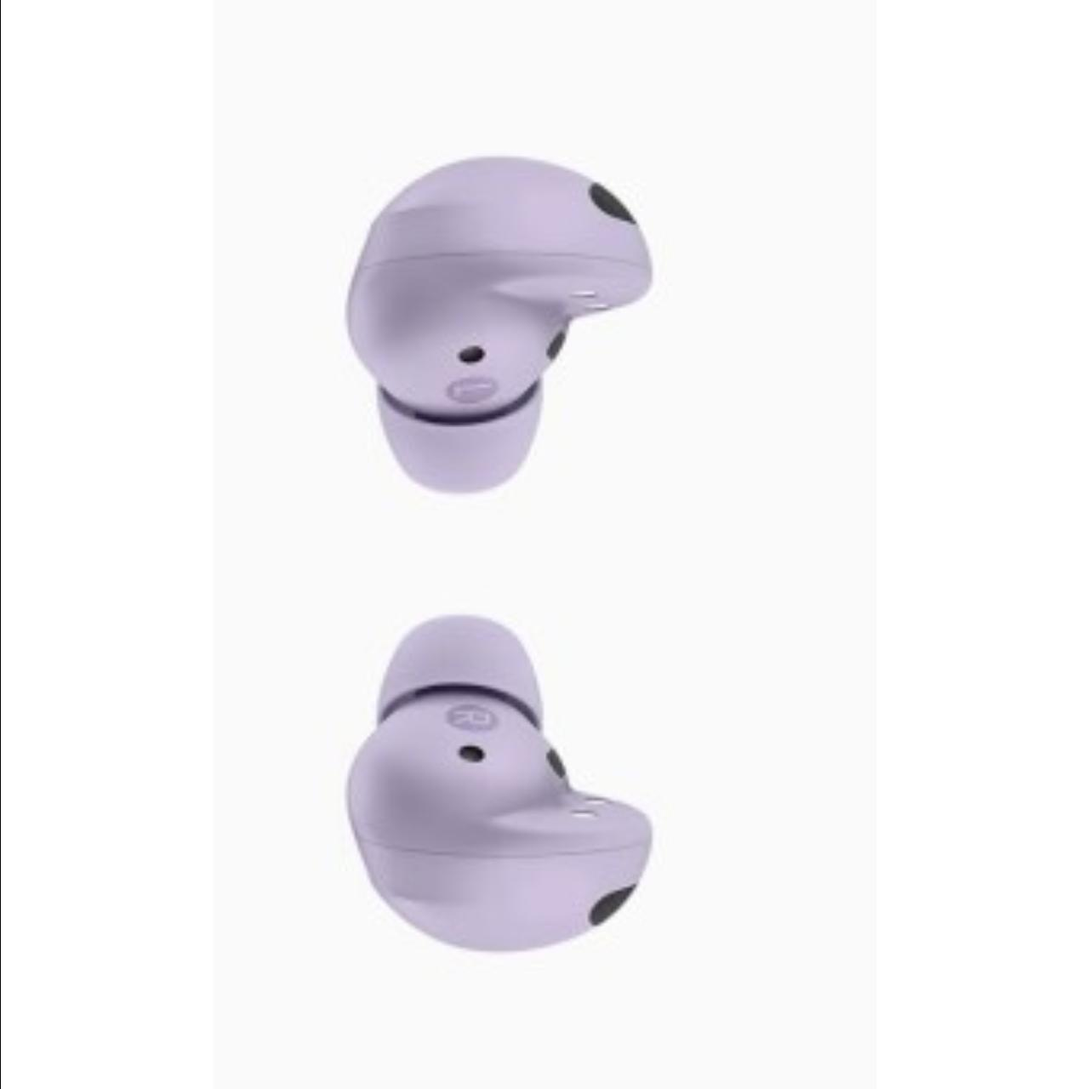Buds_Units: (336, 152, 656, 496), (343, 610, 659, 955)
